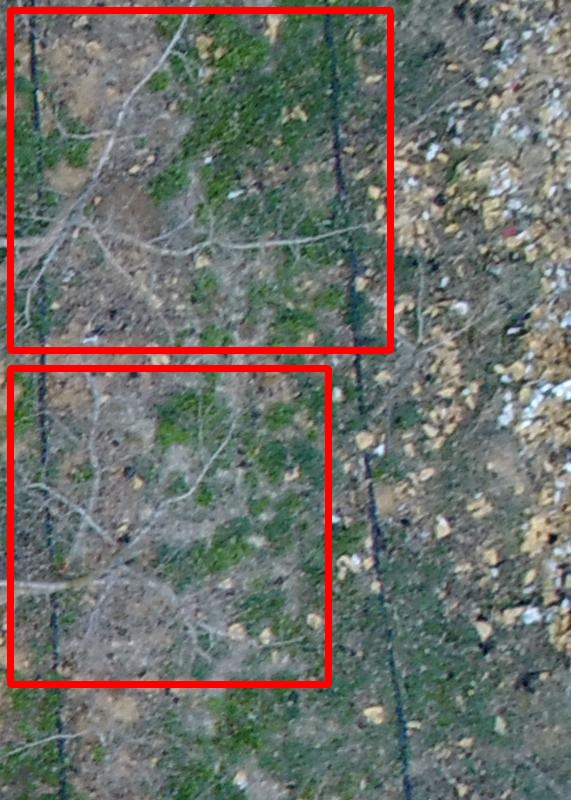apple: (10, 10, 390, 350), (10, 368, 328, 684)
